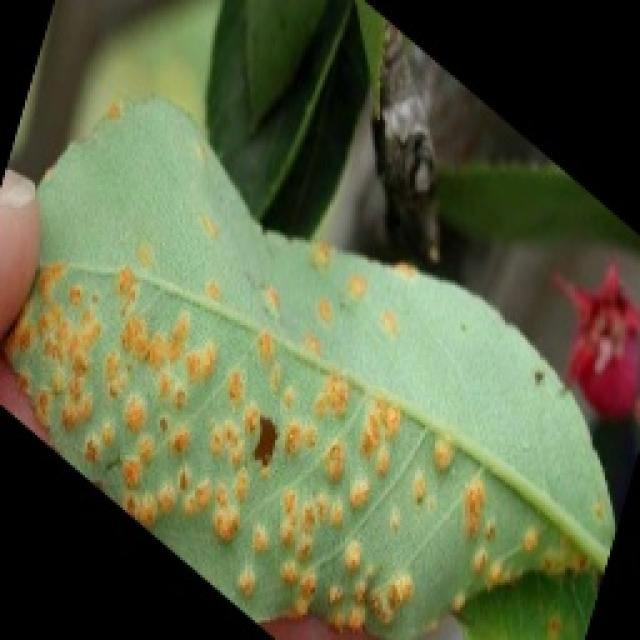Gymnosporangium_Rusts: (0, 92, 620, 638)
